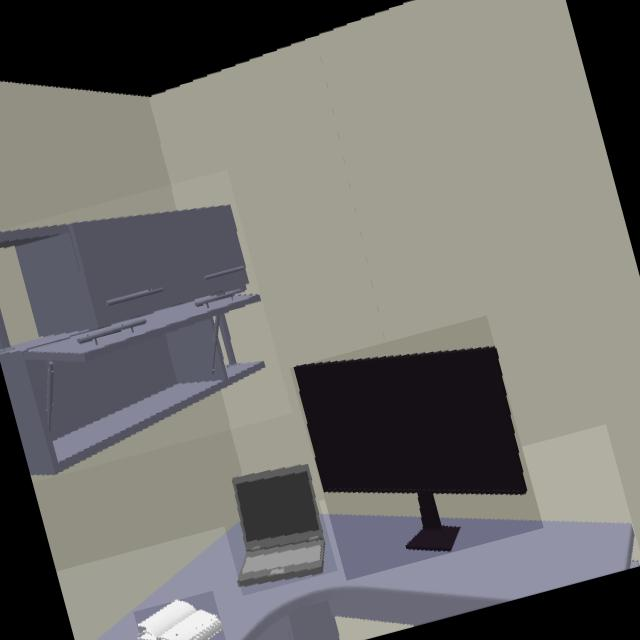book: (138, 601, 223, 640)
cabinet: (0, 205, 266, 476)
laptop: (231, 465, 326, 588)
monitor: (293, 346, 529, 552)
table: (97, 514, 635, 640)
